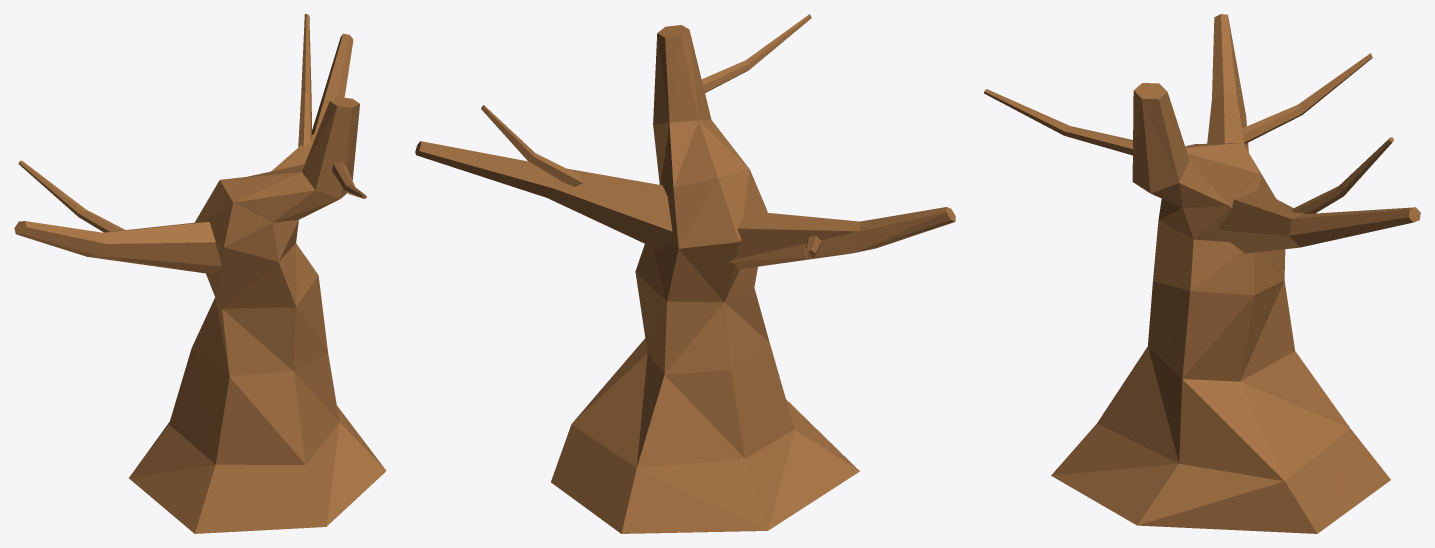
The model's file is tree_dead1.fbx.
The picture shows the model from 3 angles, left to right: view 1: azimuth 30°, elevation 25°; view 2: azimuth 150°, elevation 25°; view 3: azimuth 270°, elevation 25°; orthographic projection. The views are drawn at different scales.
Parts seen in each view (by area): view 1: tree_dead1; view 2: tree_dead1; view 3: tree_dead1.
Boxes of the visible parts, <box> form: tree_dead1: <box>14,14,386,533</box>; tree_dead1: <box>415,14,955,533</box>; tree_dead1: <box>984,14,1420,533</box>.
Bounding box in the file's own units: 2.55 × 2.24 × 2.06.
